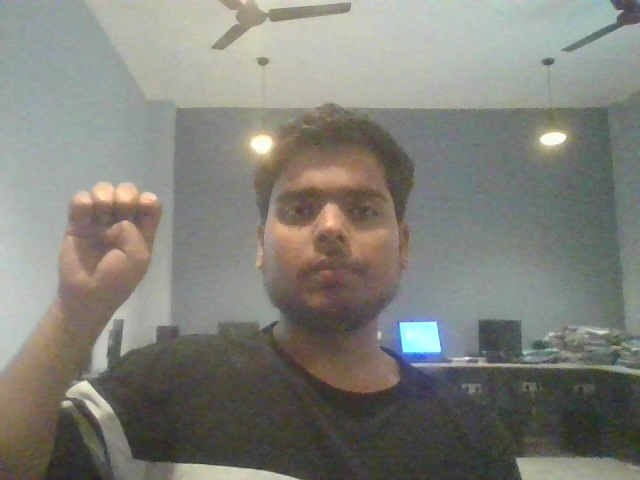E: (28, 146, 195, 344)
